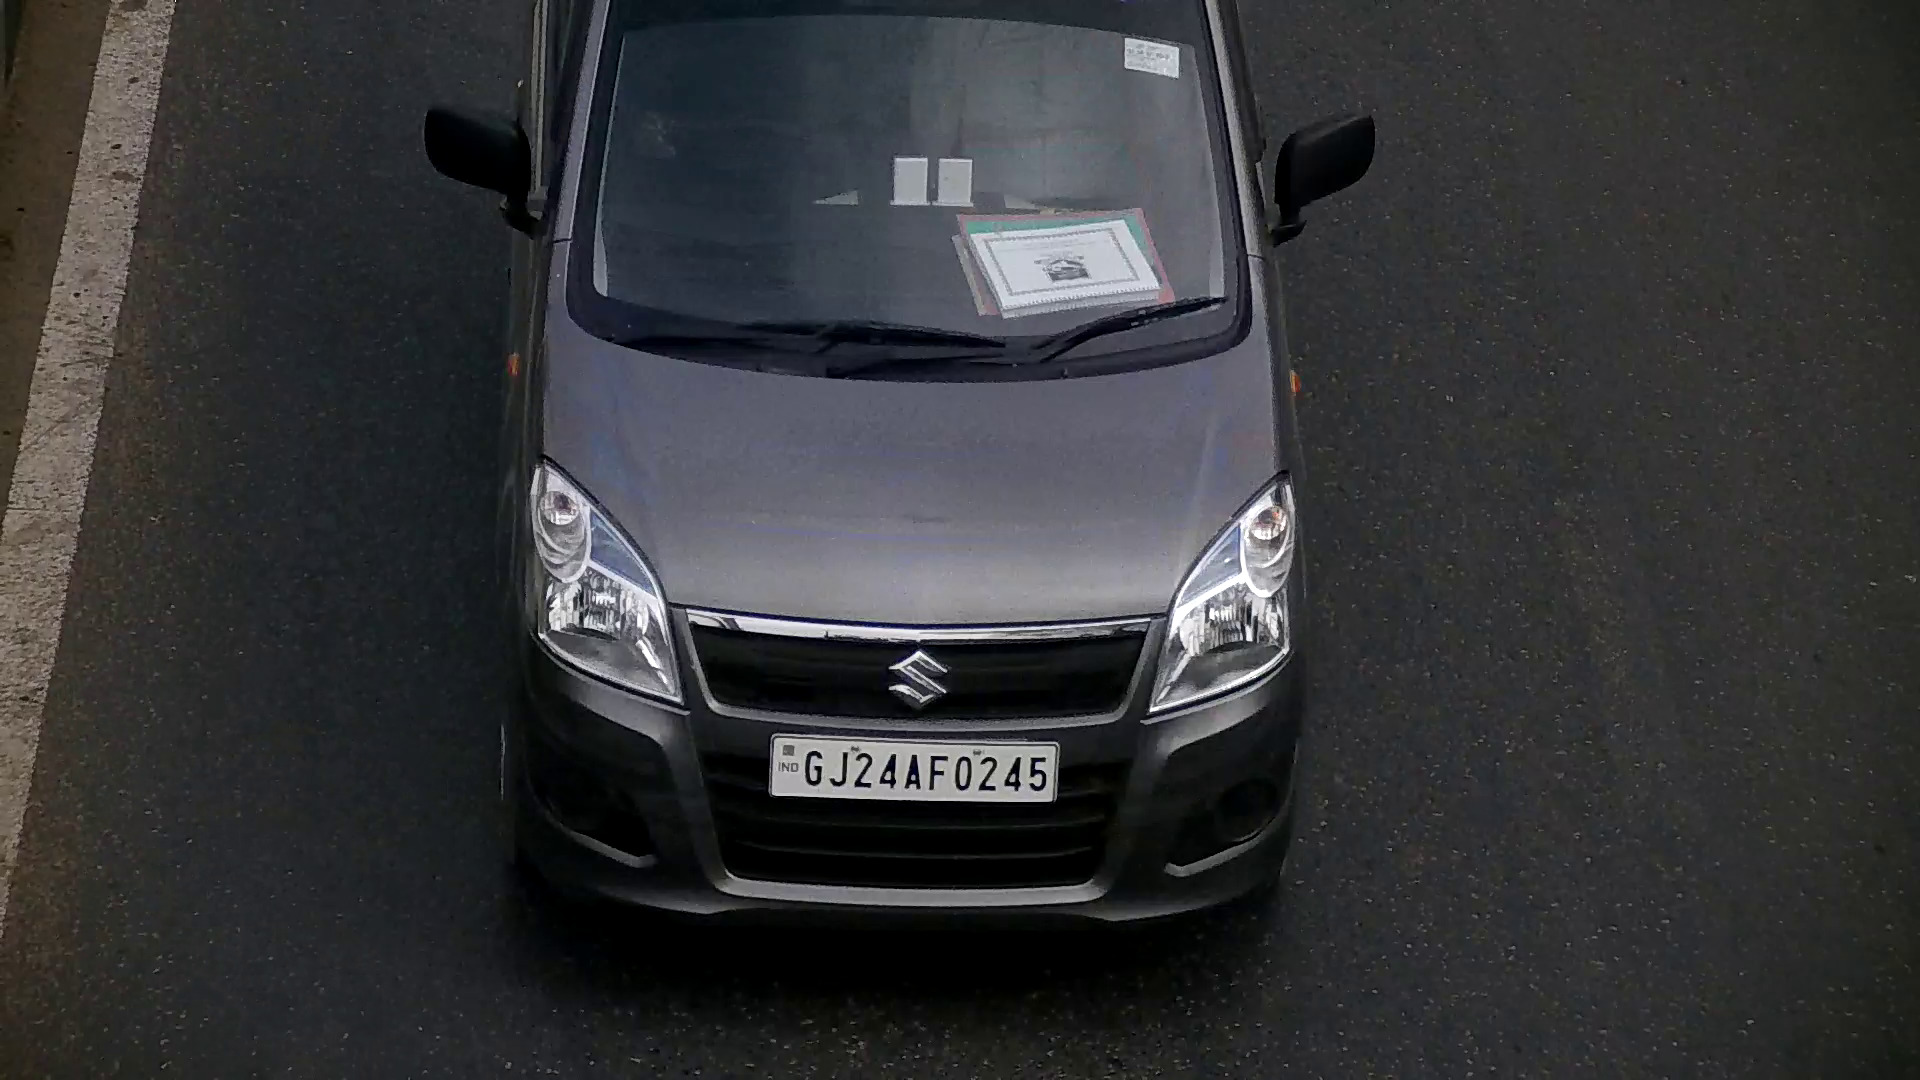numberplate: (762, 729, 1065, 810)
